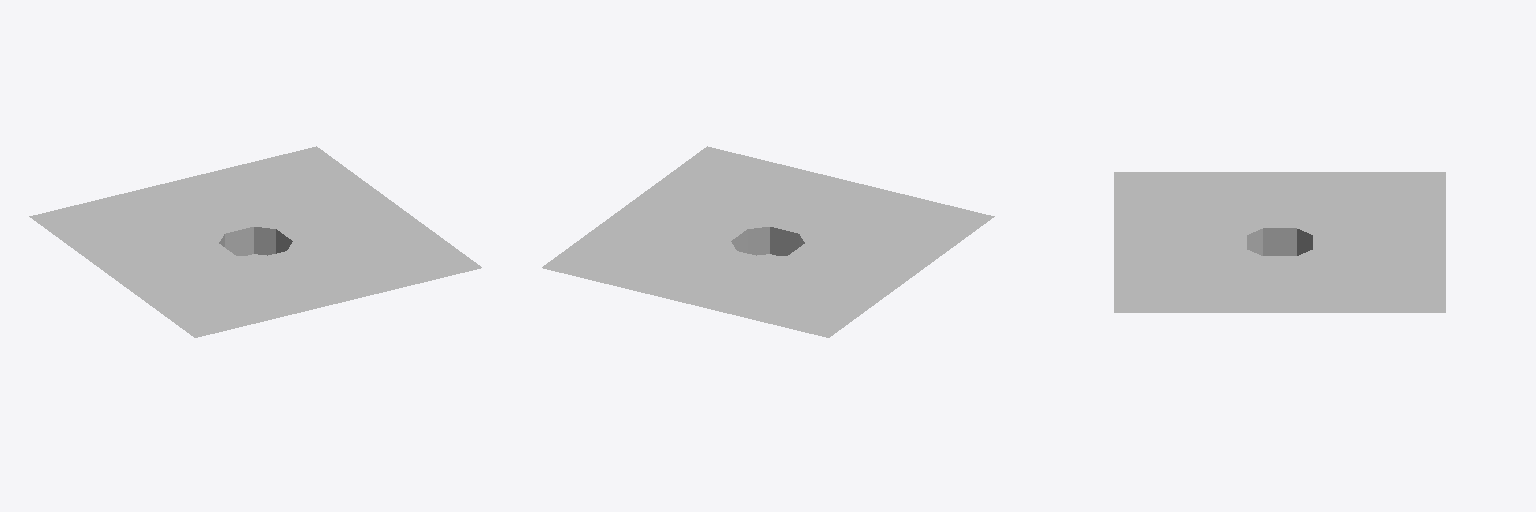
File: branchField.obj
3 renders of one model, left to right at view 1: azimuth 30°, elevation 25°; view 2: azimuth 150°, elevation 25°; view 3: azimuth 270°, elevation 25°, orthographic.
Parts seen in each view (by area): view 1: グリッド.004; view 2: グリッド.004; view 3: グリッド.004.
Part boxes in pixels (left/top/right/bottom): グリッド.004: left=29, top=146, right=481, bottom=337; グリッド.004: left=542, top=146, right=994, bottom=337; グリッド.004: left=1114, top=172, right=1445, bottom=312.
Bounding box in the file's own units: 2 × 0.182 × 2.